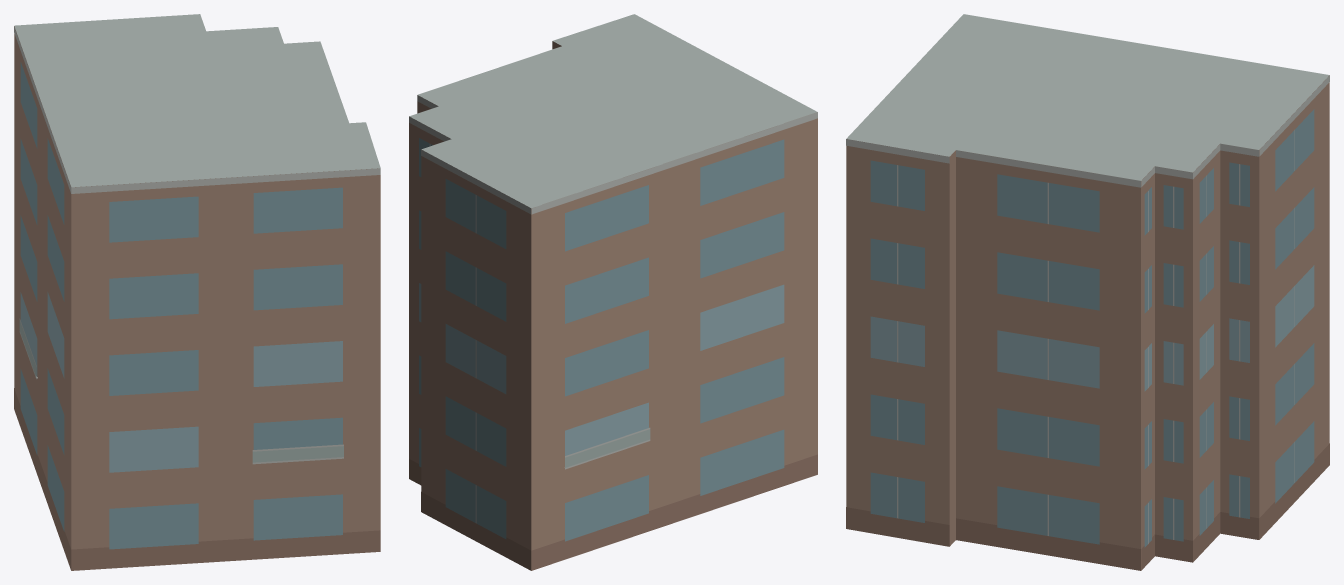
Rendered from survey-upis-32589645.glb.
The picture shows the model from 3 angles, left to right: view 1: azimuth 30°, elevation 25°; view 2: azimuth 150°, elevation 25°; view 3: azimuth 270°, elevation 25°; orthographic projection. The views are drawn at different scales.
Visible parts, largest first — view 1: survey-upis-32589645.tmp; view 2: survey-upis-32589645.tmp; view 3: survey-upis-32589645.tmp.
Part boxes in pixels (left/top/right/bottom): survey-upis-32589645.tmp: left=14, top=14, right=380, bottom=570; survey-upis-32589645.tmp: left=409, top=14, right=817, bottom=570; survey-upis-32589645.tmp: left=846, top=14, right=1329, bottom=570.
Size of the model in its own units: 12.86 by 14 by 15.75.
